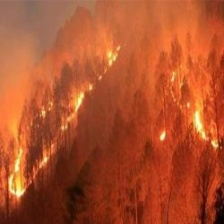fire: (8, 105, 63, 198), (68, 37, 126, 119), (190, 108, 222, 150)
